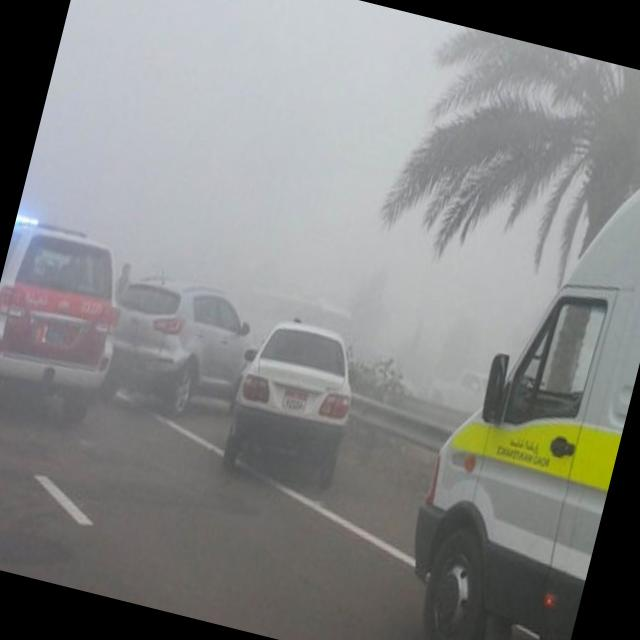car: (381, 101, 640, 640), (0, 218, 142, 427), (215, 308, 370, 497), (98, 268, 254, 426)
